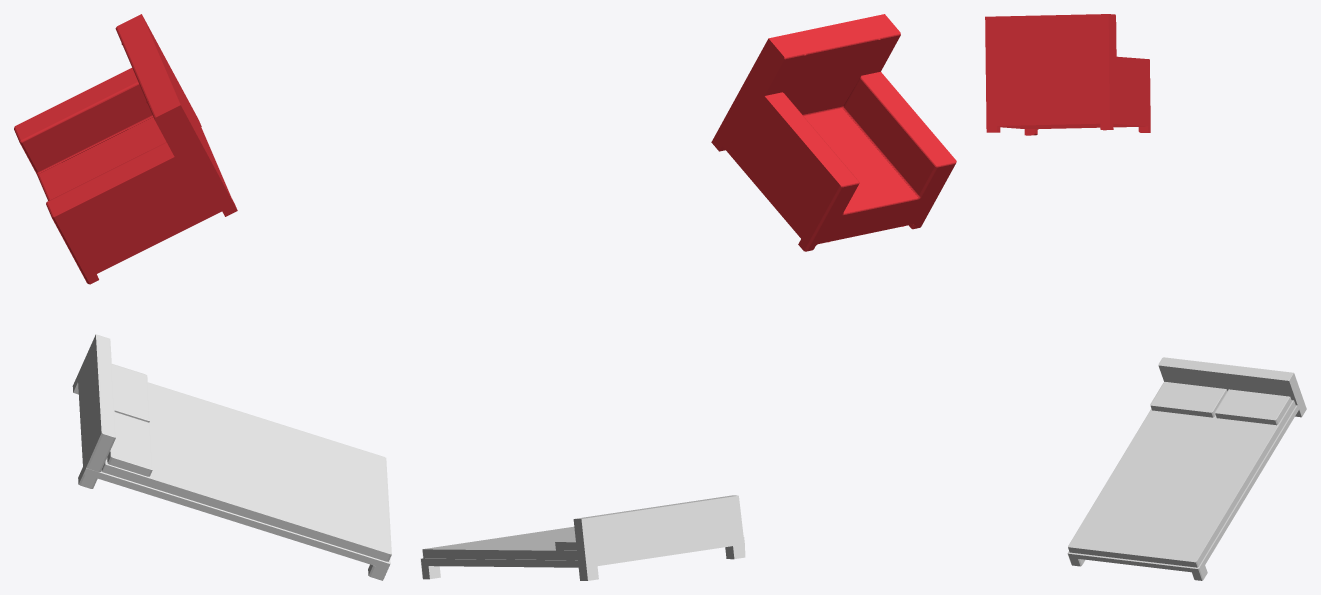
The model's file is pruebaescala.glb.
3 renders of one model, left to right at view 1: azimuth 30°, elevation 25°; view 2: azimuth 150°, elevation 25°; view 3: azimuth 270°, elevation 25°, orthographic. The views are drawn at different scales.
Parts seen in each view (by area): view 1: Plane.001, Plane; view 2: Plane, Plane.001; view 3: Plane.001, Plane.
Boxes of the visible parts, box(x1,y1,x2,y2) form: Plane.001: box(72, 334, 391, 580); Plane: box(14, 14, 237, 284); Plane: box(711, 14, 956, 251); Plane.001: box(420, 495, 745, 580); Plane.001: box(1067, 357, 1306, 580); Plane: box(985, 14, 1150, 135).
Bounding box in the file's own units: 12.72 × 16.57 × 10.31.
